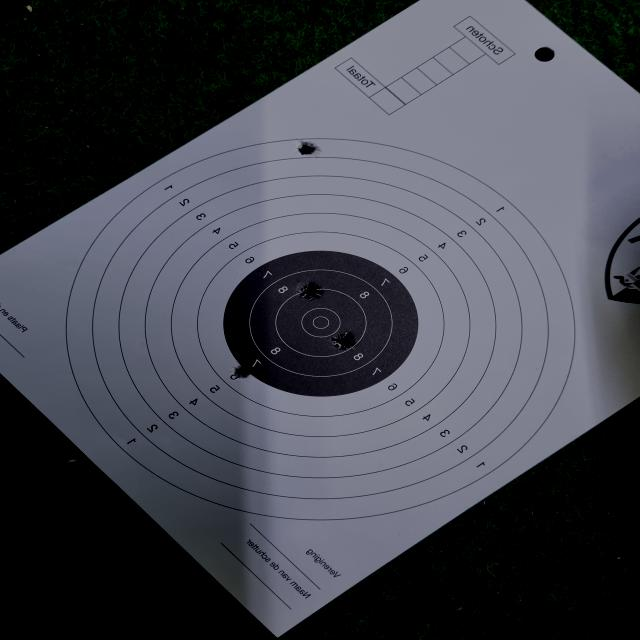1: (296, 138, 322, 155)
7: (234, 363, 254, 379)
9: (332, 331, 358, 350), (297, 282, 322, 300)
Target: (65, 137, 576, 521)
black_contour: (224, 251, 421, 403)
